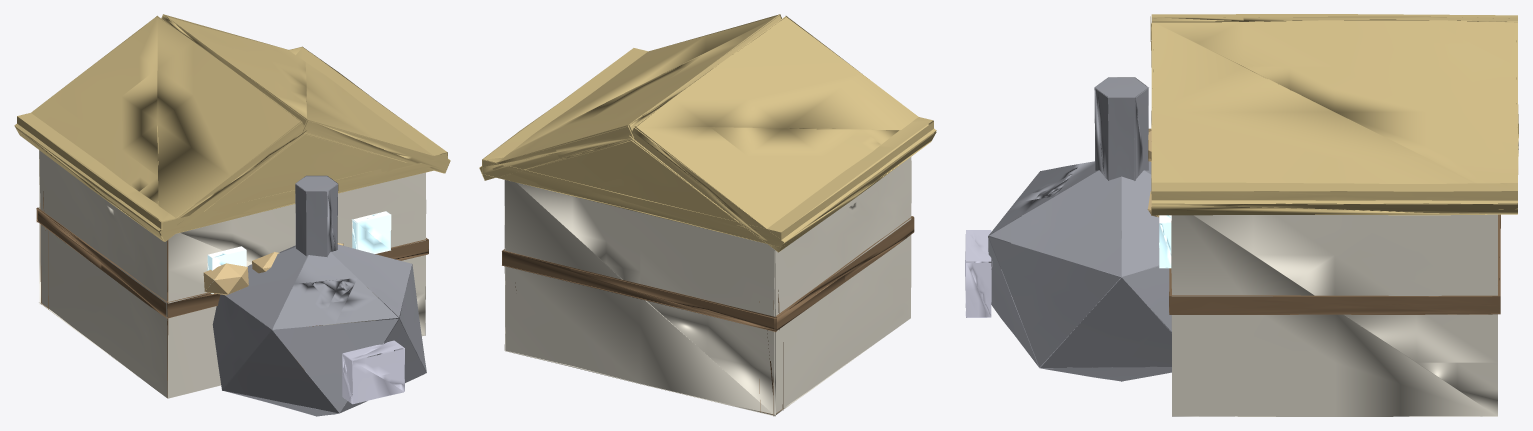
The model's file is bakery.glb.
3 views of the same model, side by side, from view 1: azimuth 30°, elevation 25°; view 2: azimuth 150°, elevation 25°; view 3: azimuth 270°, elevation 25° (orthographic). The views are drawn at different scales.
Visible parts, largest first — view 1: BakeryWall; view 2: BakeryWall; view 3: BakeryWall.
Boxes of the visible parts, x1,y1,x2,y2 form: BakeryWall: (14,14,450,416); BakeryWall: (479,14,936,416); BakeryWall: (965,14,1518,416).
Bounding box in the file's own units: 1.7 × 1.6 × 2.21.
